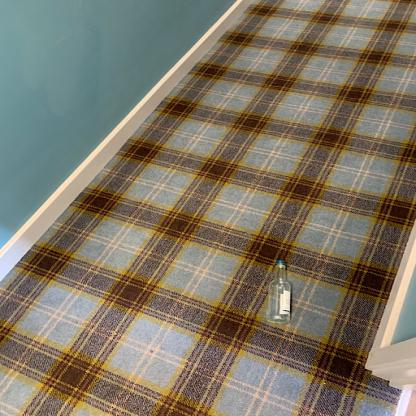trash: (265, 258, 292, 325)
